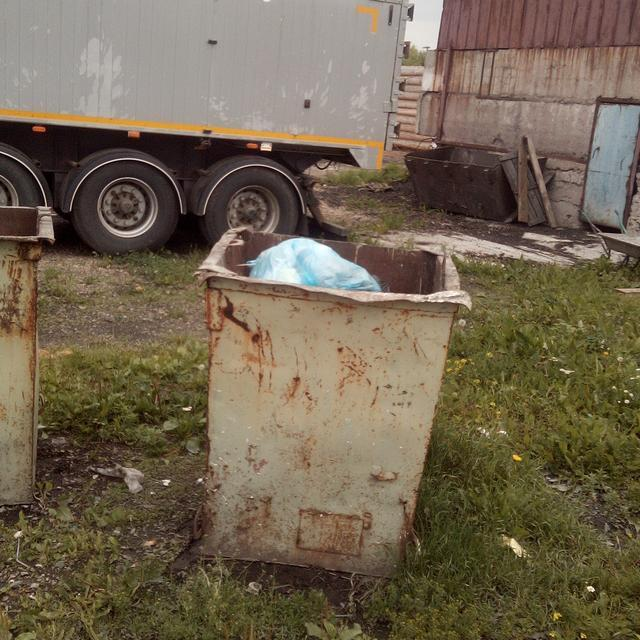Trash_Can_Empty: (0, 205, 56, 506)
Trash_Can_Full: (195, 227, 471, 574)
